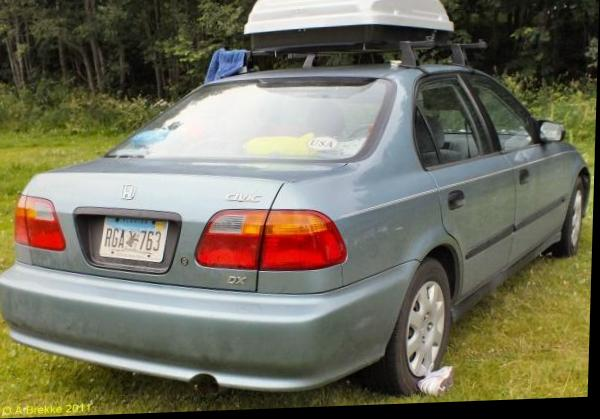License_Plate: (95, 204, 183, 277)
